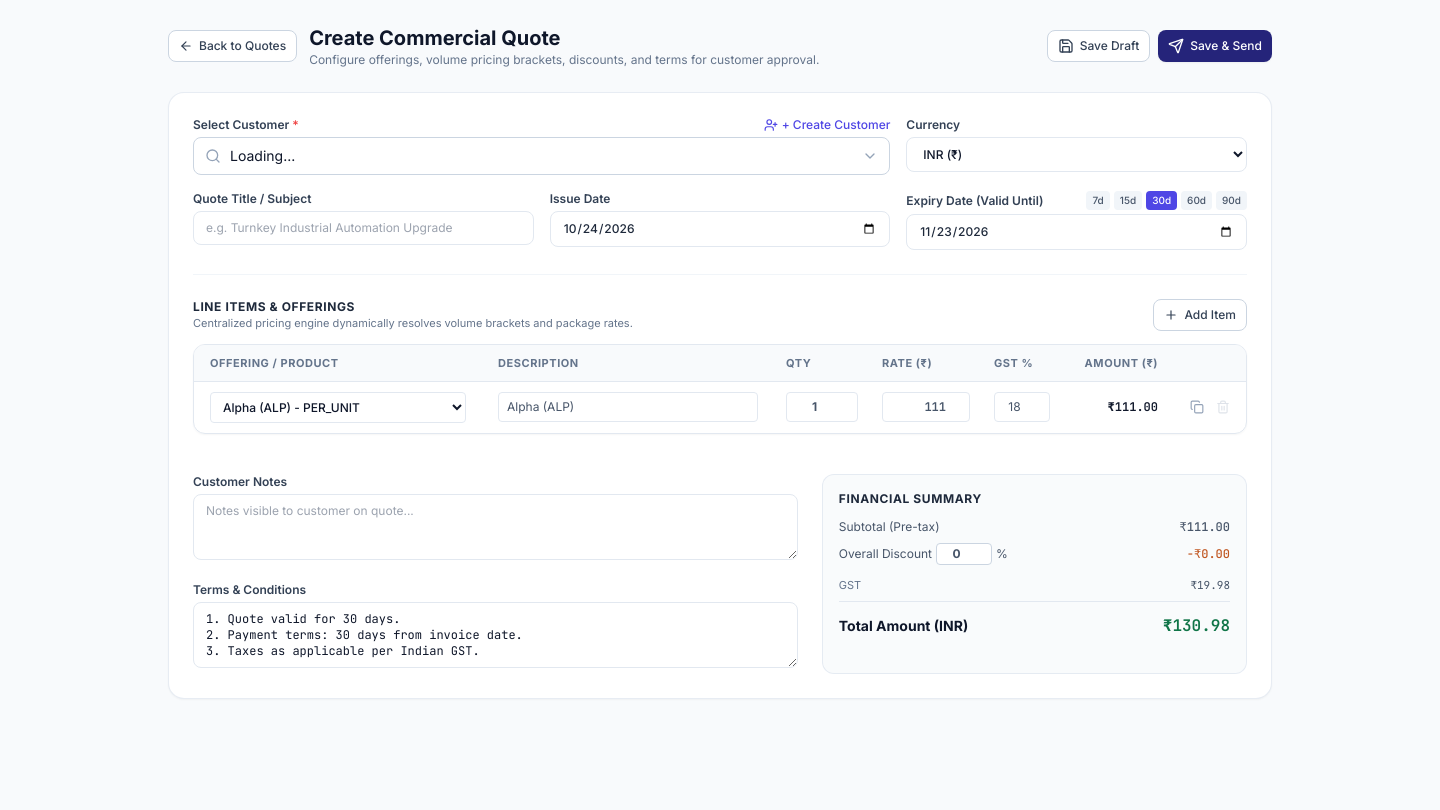
Test case: <QuoteFormPage /> line prices (BUG-13) › re-prices an untouched offering line on a quantity change and again when an offering is re-selected
This screenshot has width=1440, height=810.
Replace the text in the 1st number field with "2": x=822, y=407 left=786, top=392, right=858, bottom=422
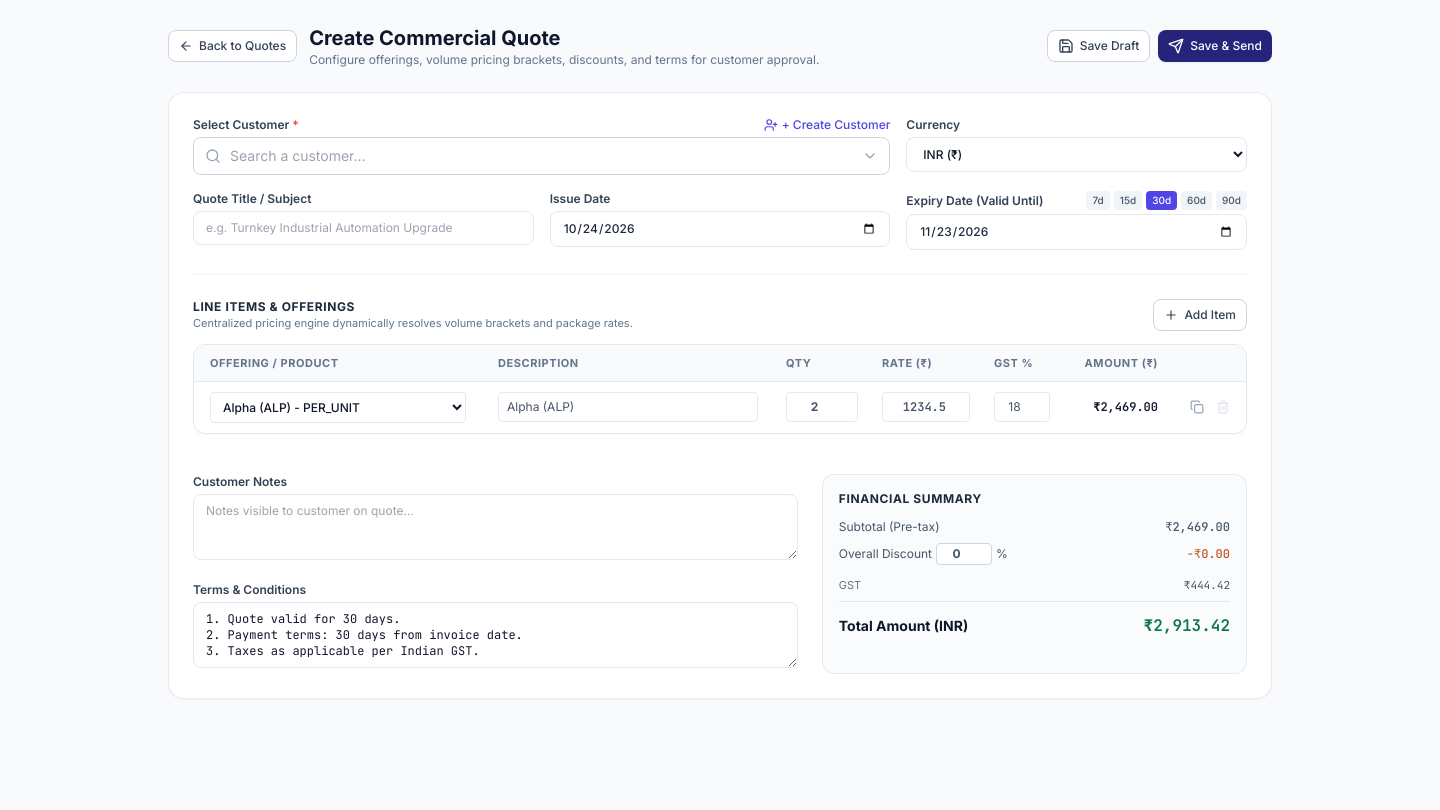
Result: the 2nd number field holds "1234.5"
Replace the text in the 2nd number field with "50": x=926, y=407 left=882, top=392, right=970, bottom=422
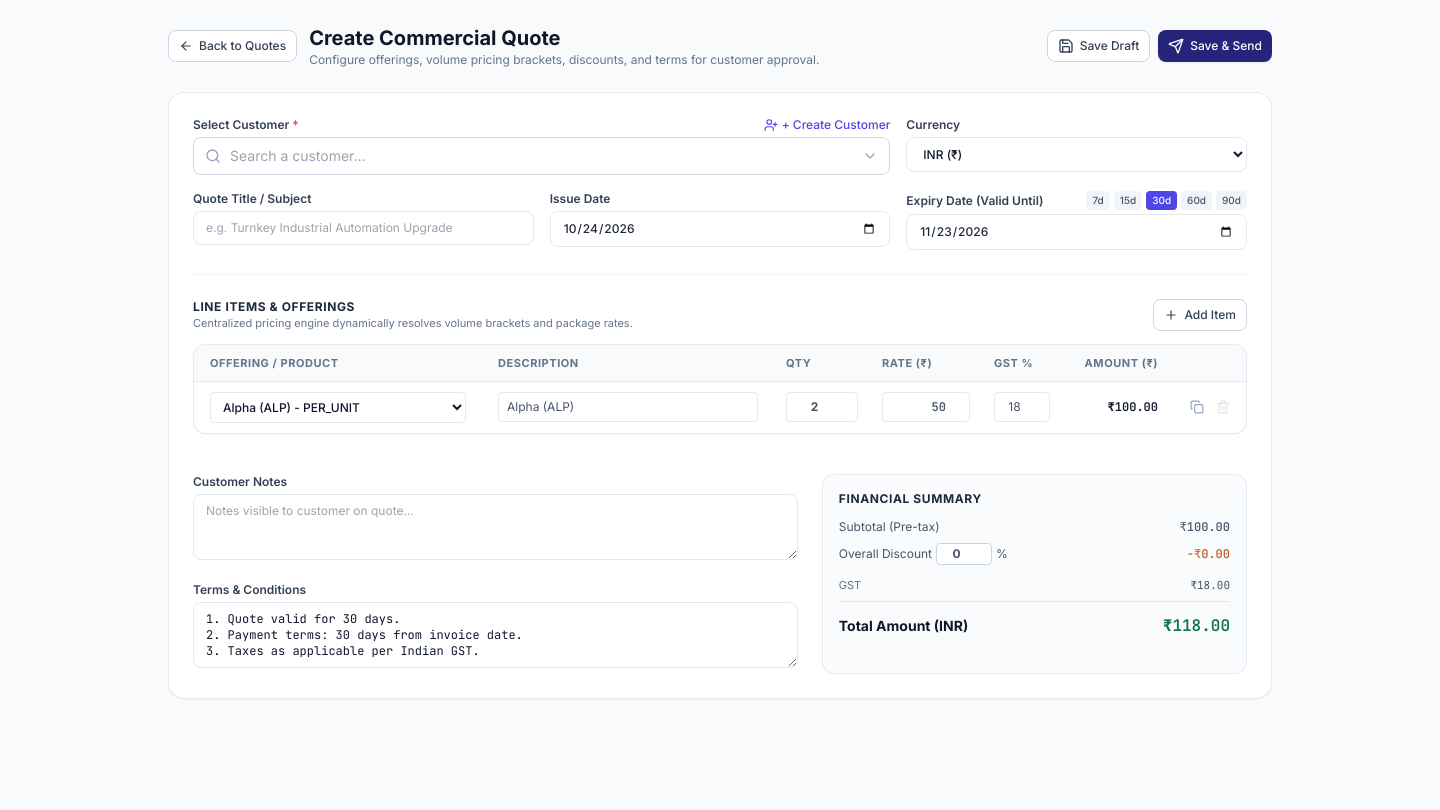
Select "Beta (BET) - PER_UNIT" in the dropdown below "Offering / Product": x=338, y=407 left=210, top=392, right=466, bottom=422
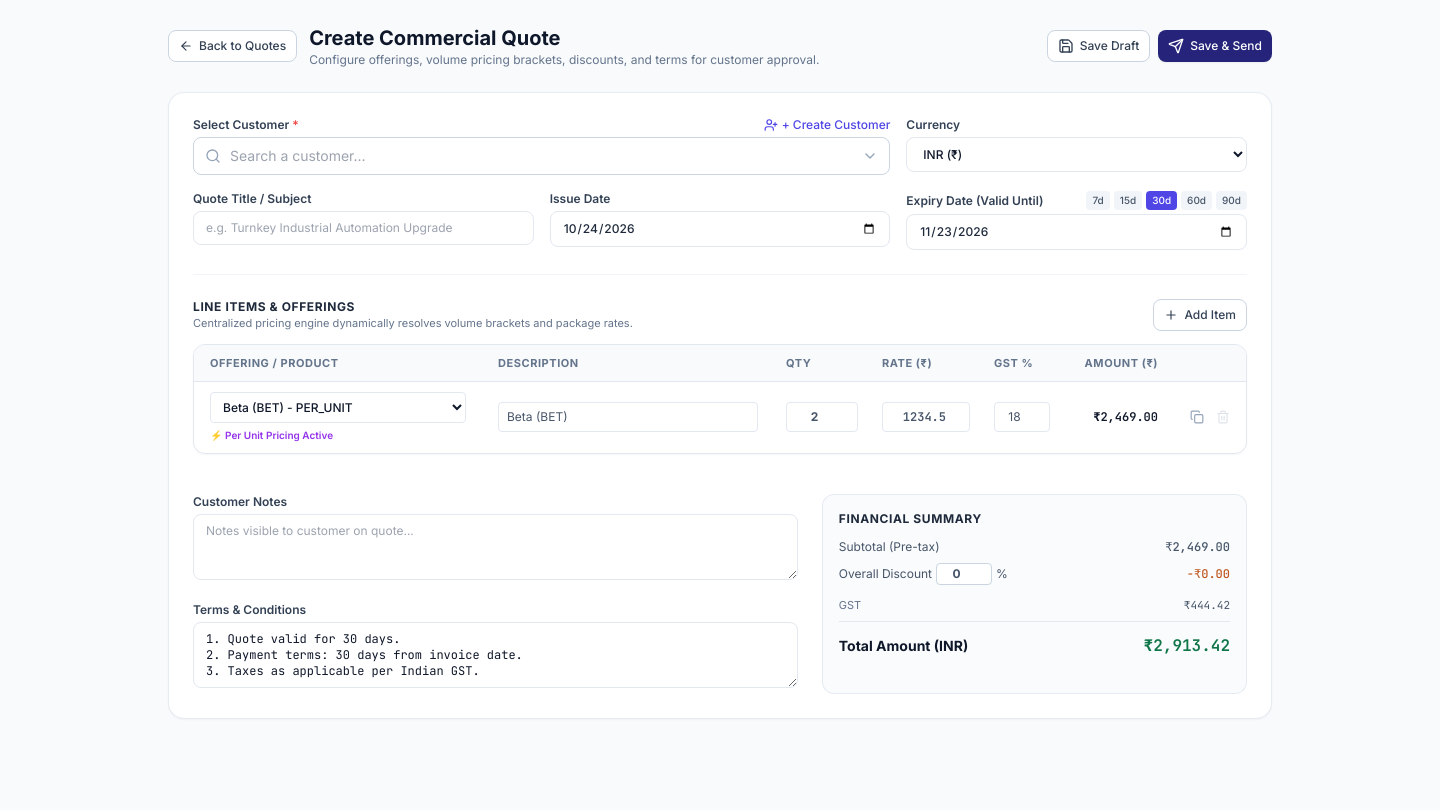
Result: the 2nd number field holds "1234.5" at left=882, top=402, right=970, bottom=432
